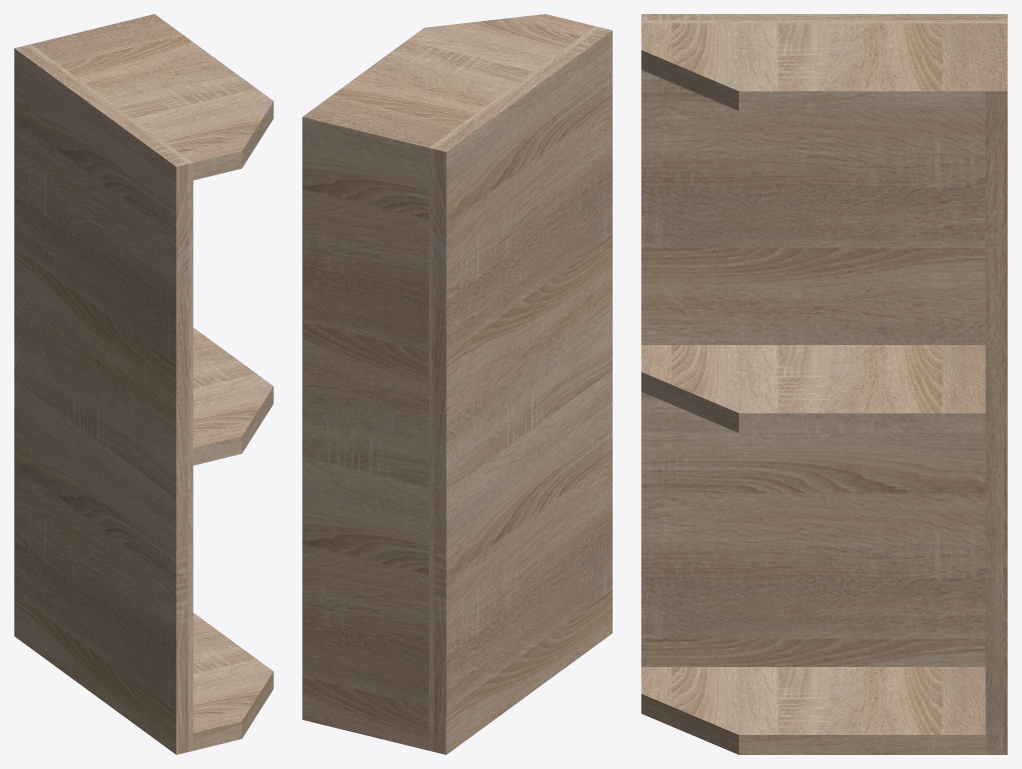
The model's file is s_fvz_15.glb.
The picture shows the model from 3 angles, left to right: view 1: azimuth 30°, elevation 25°; view 2: azimuth 150°, elevation 25°; view 3: azimuth 270°, elevation 25°; orthographic projection. The views are drawn at different scales.
Visible parts, largest first — view 1: s_fvz_15_korpusz; view 2: s_fvz_15_korpusz; view 3: s_fvz_15_korpusz.
Boxes of the visible parts, bbox=[...] form: s_fvz_15_korpusz: bbox=[14, 14, 273, 754]; s_fvz_15_korpusz: bbox=[302, 14, 612, 754]; s_fvz_15_korpusz: bbox=[641, 14, 1007, 754].
Size of the model in its own units: 0.15 by 0.6 by 0.3.
Materials: 1 (1 with a texture image).
